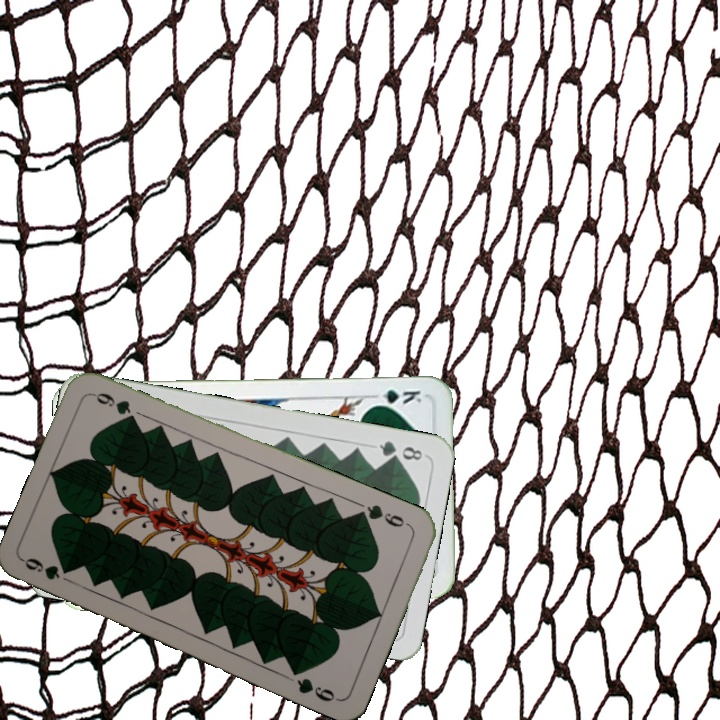G8: (375, 436, 425, 463)
G9: (354, 500, 414, 531), (20, 554, 63, 583)
GK: (367, 385, 424, 409)
